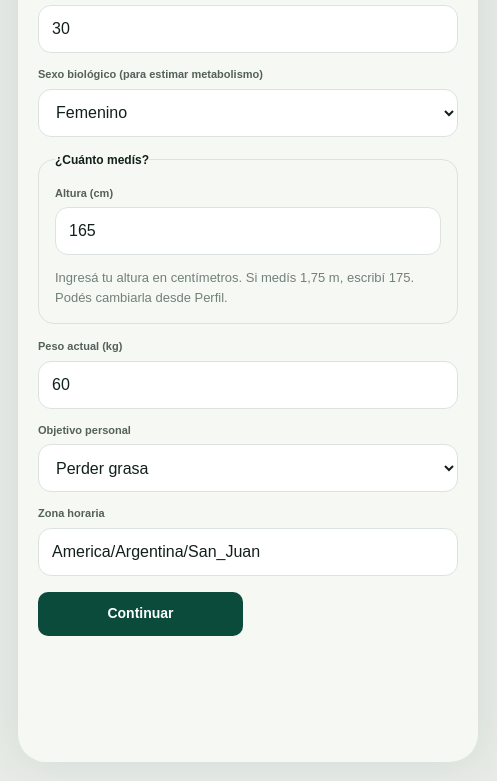
Test case: Questionnaire recommendation › proposes goals from the answers and still lets the user change or restore them
This screenshot has width=497, height=781.
(page scrolled)
Click the button "Continuar" at {"x": 140, "y": 614}, box [38,592,243,636]
(page scrolled)
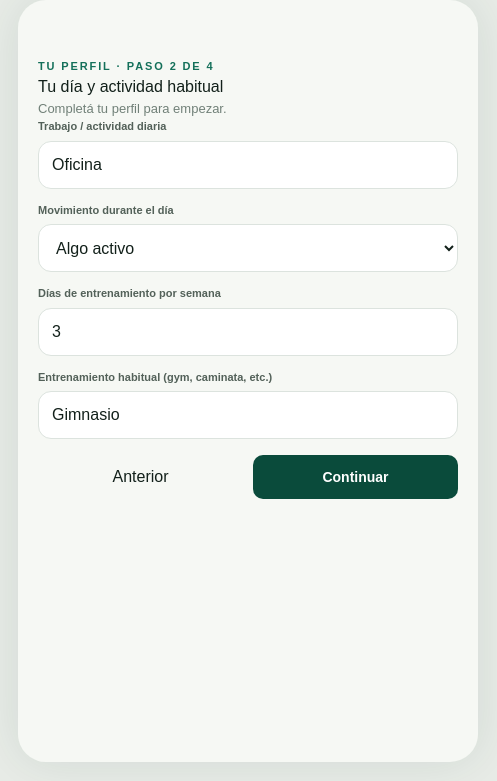
Click the button "Continuar" at {"x": 356, "y": 477}, box [253,455,458,499]
(page scrolled)
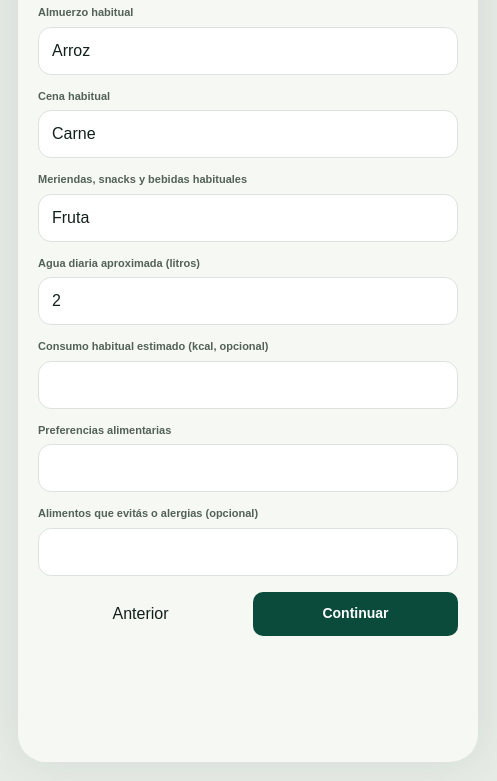
Click the button "Continuar" at {"x": 356, "y": 614}, box [253,592,458,636]
(page scrolled)
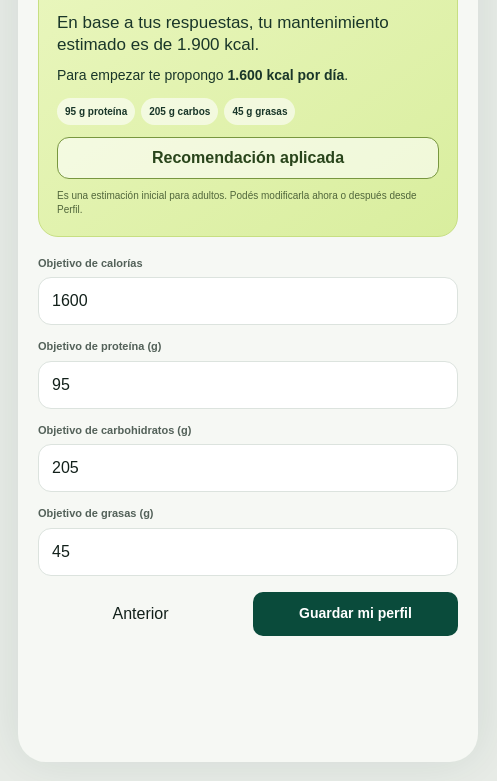
Check: the heading "tu mantenimiento estimado es de 1.900 kcal" is shown, box [57,12,439,57]
Check: the text "Para empezar te propongo 1.600 kcal por día." is shown, box [57,67,348,83]
Check: the number field labelled "Objetivo de calorías" holds "1600"
Replace the text in the number field labelled "Objetivo de calorías" with "1750" at {"x": 248, "y": 301}, box [38,277,458,325]
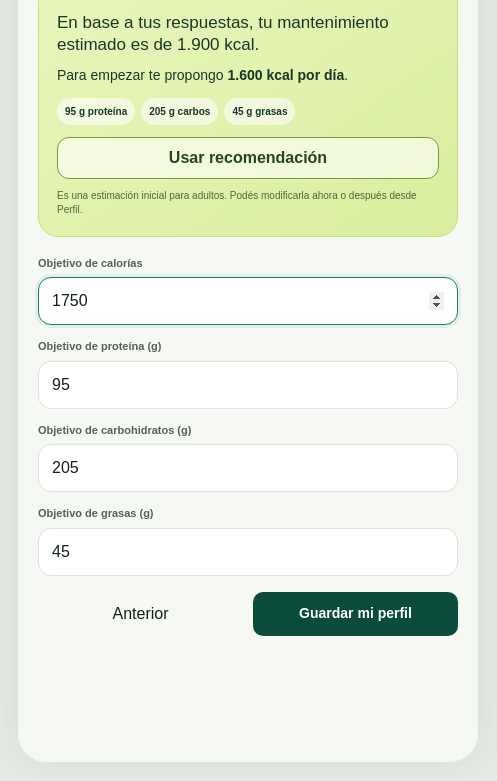
Click the button "Usar recomendación" at {"x": 248, "y": 158}, box [57,137,439,179]
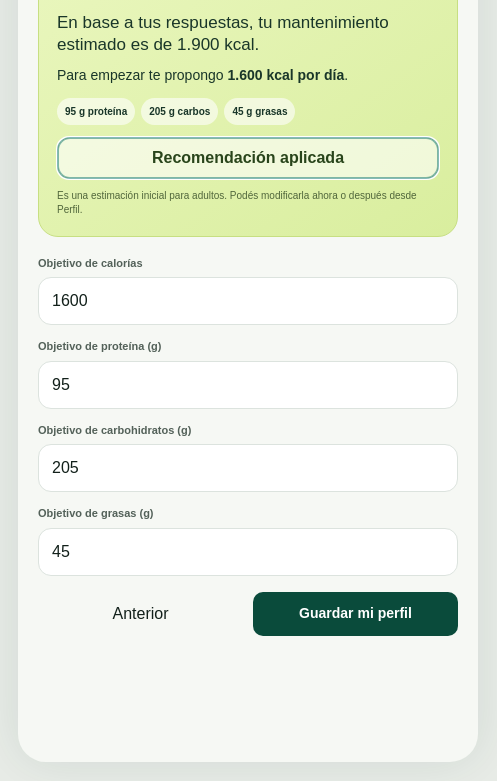
Check: the number field labelled "Objetivo de calorías" holds "1600", box [38,277,458,325]
